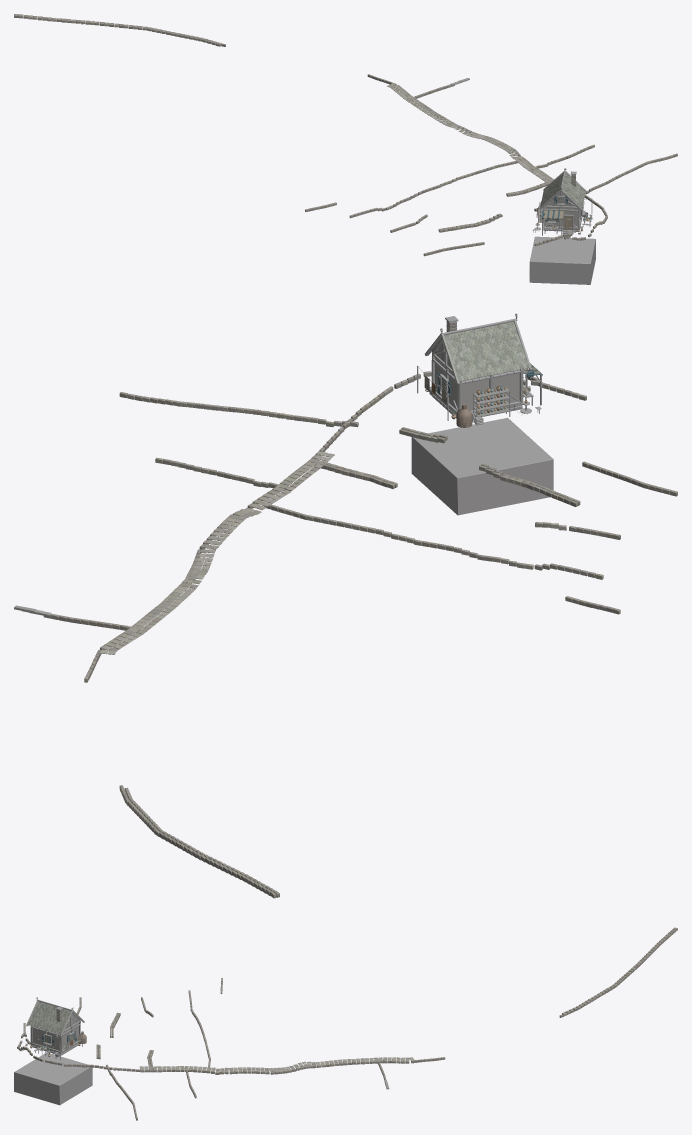
The model's file is potter_placed.glb.
The picture shows the model from 3 angles, top to bottom: view 1: azimuth 30°, elevation 25°; view 2: azimuth 150°, elevation 25°; view 3: azimuth 270°, elevation 25°; orthographic projection. The views are drawn at different scales.
Visible parts, largest first — view 1: Grounded stone terrace and worn flagstones__tav_stone, Grounded stone terrace and worn flagstones__tav_mortar, Overlapping weathered terracotta shingles; view 2: Grounded stone terrace and worn flagstones__tav_stone, Grounded stone terrace and worn flagstones__tav_mortar, Overlapping weathered terracotta shingles, Warm limewashed walls and stone footings__potter_plaster, Hand hewn oak frame braces and pegged joints__tav_oak; view 3: Grounded stone terrace and worn flagstones__tav_stone, Grounded stone terrace and worn flagstones__tav_mortar, Overlapping weathered terracotta shingles, Warm limewashed walls and stone footings__potter_plaster, Hand hewn oak frame braces and pegged joints__tav_oak.
Part boxes in pixels (x1,y1,x2,y2): Grounded stone terrace and worn flagstones__tav_stone: (14,14,677,256); Grounded stone terrace and worn flagstones__tav_mortar: (529,236,595,284); Overlapping weathered terracotta shingles: (540,172,585,208); Grounded stone terrace and worn flagstones__tav_stone: (14,371,677,898); Grounded stone terrace and worn flagstones__tav_mortar: (411,417,553,515); Overlapping weathered terracotta shingles: (431,321,529,381); Warm limewashed walls and stone footings__potter_plaster: (435,325,519,410); Hand hewn oak frame braces and pegged joints__tav_oak: (431,339,523,413); Grounded stone terrace and worn flagstones__tav_stone: (17,927,677,1120); Grounded stone terrace and worn flagstones__tav_mortar: (14,1053,92,1105); Overlapping weathered terracotta shingles: (27,1001,80,1034); Warm limewashed walls and stone footings__potter_plaster: (32,1014,78,1050); Hand hewn oak frame braces and pegged joints__tav_oak: (30,1012,80,1053).
Bounding box in the file's own units: 61.82 × 14.56 × 101.
